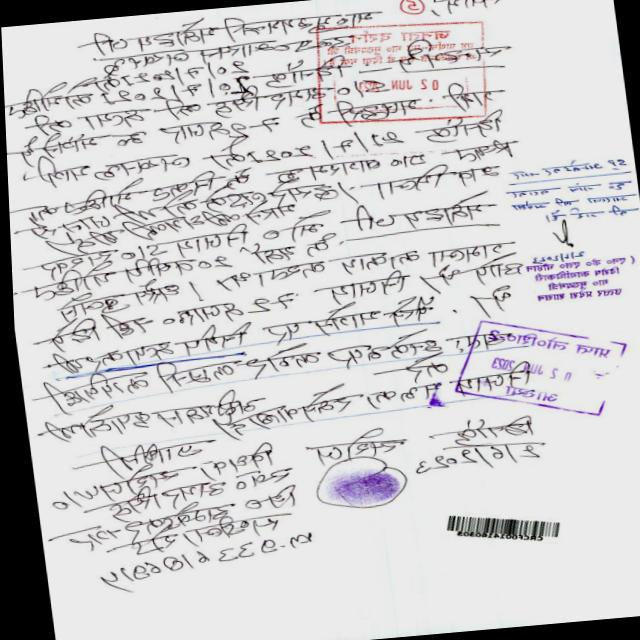antritgovtstamp: (427, 304, 640, 431)
barcode: (426, 504, 576, 551)
fingerprint: (306, 452, 409, 516)
jantadarsan: (302, 14, 495, 129)
signnamestamp: (513, 204, 640, 310)
